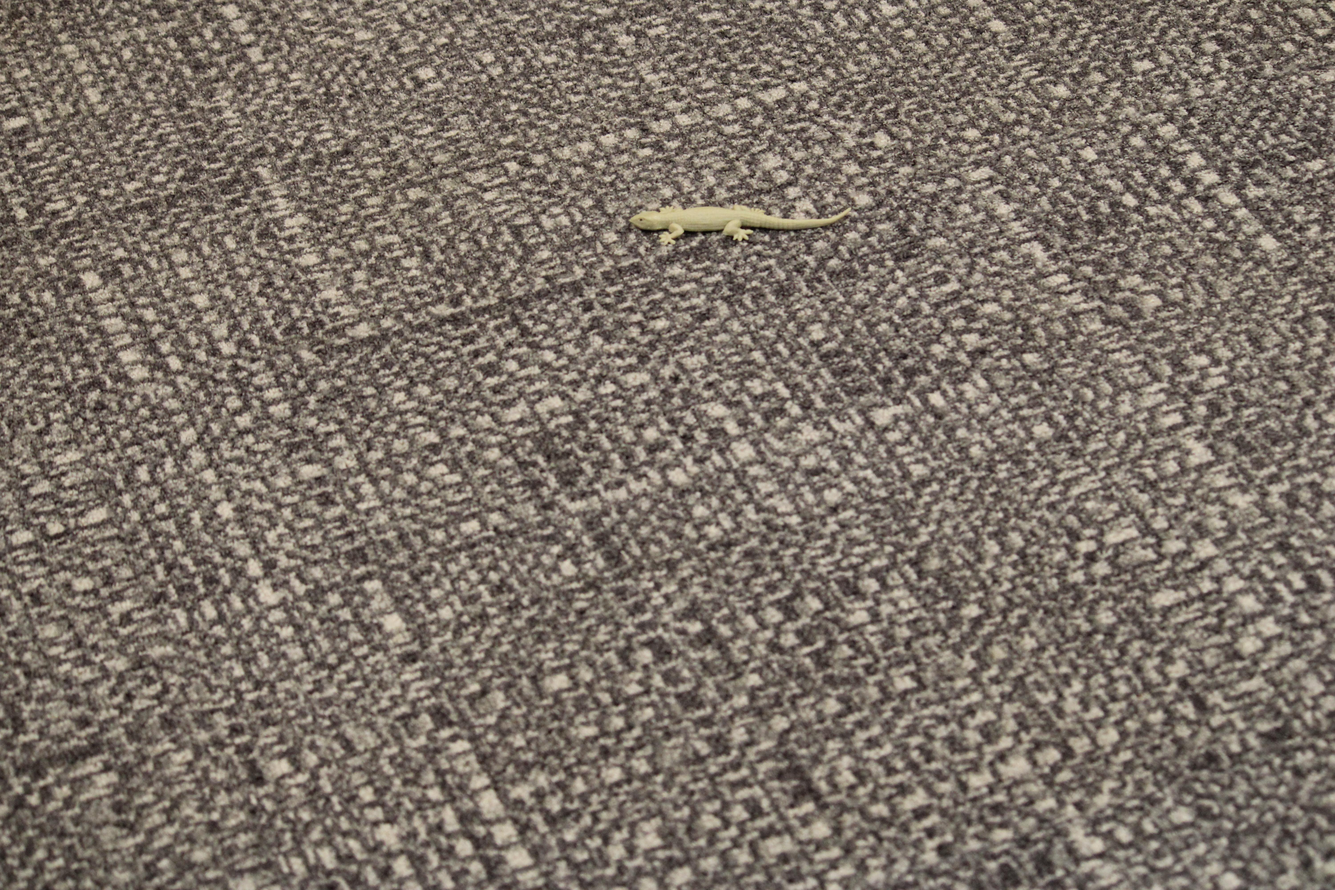lizard: (626, 185, 830, 254)
